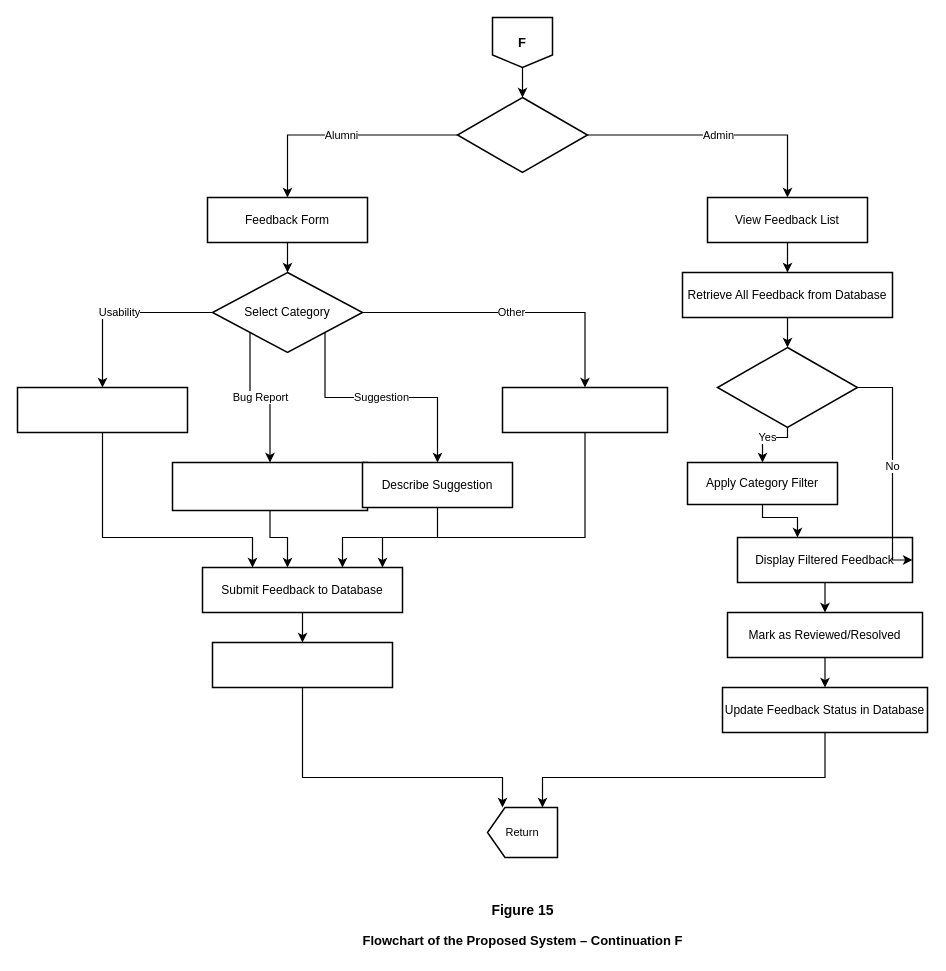
This 946x971 diagram has some shape labels left out. Here are the shapes that lost their labels. From the top down, the centre of each, then its label:
the point at 522,134: Check User Role
the point at 787,387: Filter by Category?
the point at 102,409: Describe Usability Issue
the point at 584,409: Enter Feedback Details
the point at 269,486: Describe Bug & Steps to Reproduce
the point at 302,664: Show Thank You Message
